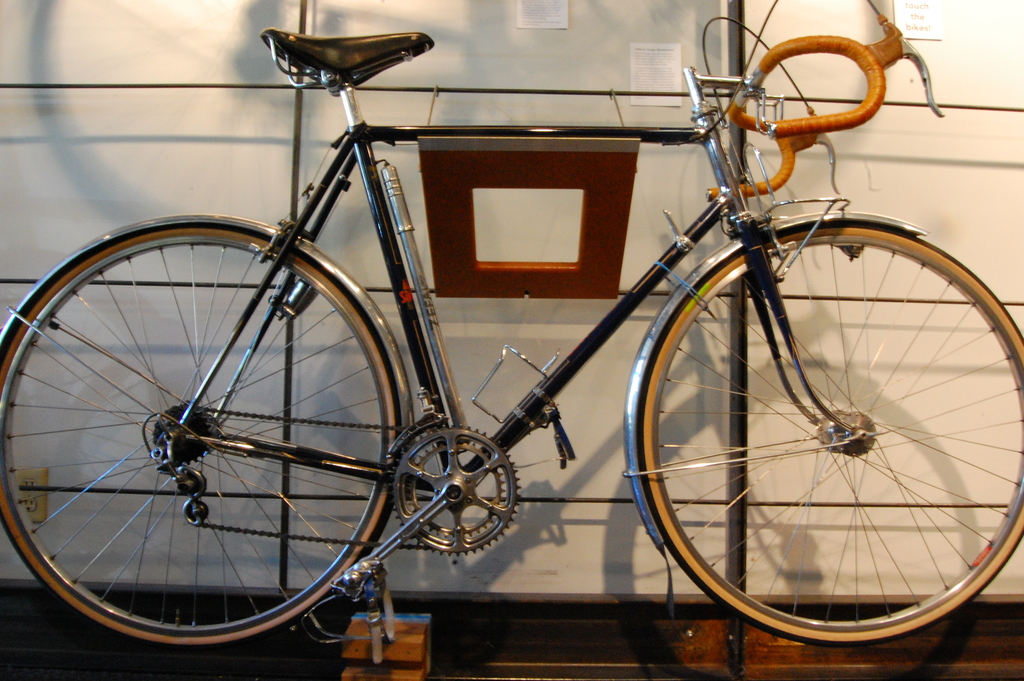Bike: (16, 12, 1024, 665)
